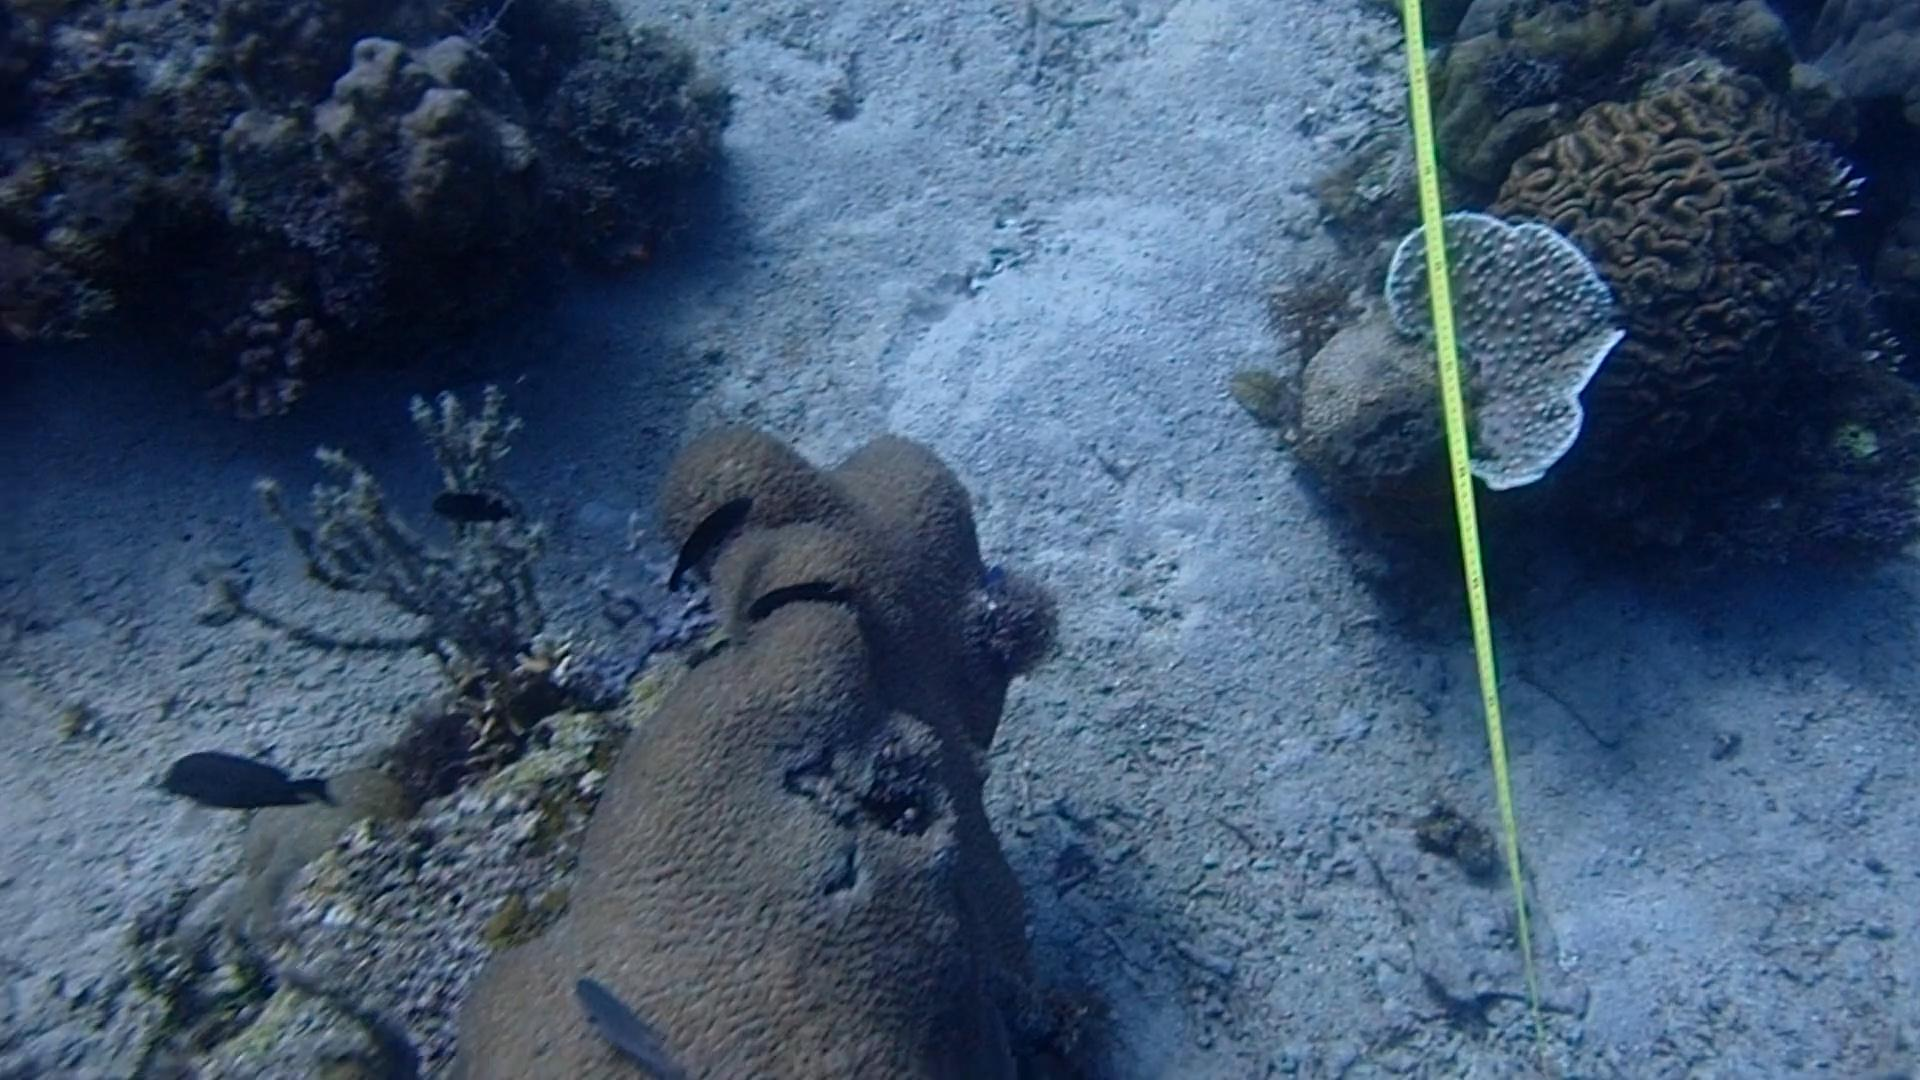Big Dark Blue Fish: (141, 733, 344, 824)
Dark Fish: (662, 484, 760, 576), (740, 571, 856, 622), (421, 475, 513, 533)
Light Fish: (570, 967, 673, 1080)
